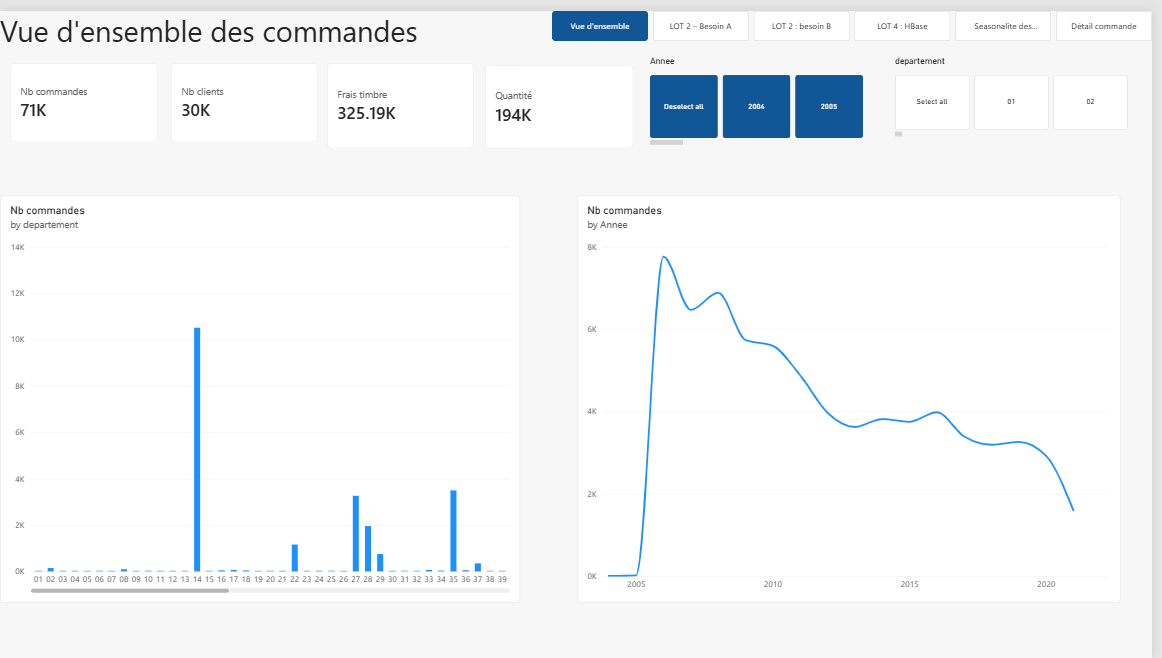

The page's visual inventory and layout, read from the dashboard file:
{"tool":"powerbi","page":{"name":"Vue d'ensemble","canvas":[1920,1080],"ordinal":0},"visuals":[{"type":"cardVisual","fields":{"Data":["lignes.Nb commandes"]},"box":[16.5,86.2,246.6,132.8],"z":0},{"type":"cardVisual","fields":{"Data":["lignes.Nb clients"]},"box":[284.2,86.2,245.1,132.8],"z":1000},{"type":"cardVisual","fields":{"Data":["lignes.Quantité"]},"box":[808.7,89.9,247,139.2],"z":2000},{"type":"cardVisual","fields":{"Data":["lignes.Frais timbre"]},"box":[544.6,86.2,245.1,143],"z":3000},{"type":"lineChart","fields":{"Category":["Calendrier.Annee","Calendrier.Mois"],"Y":["lignes.Nb commandes"]},"box":[960.9,306.2,905.9,680.3],"z":4000},{"type":"advancedSlicerVisual","fields":{"Values":["Calendrier.Annee"]},"box":[1078.3,80,356.5,150.1],"z":5000},{"type":"advancedSlicerVisual","fields":{"Values":["Clients.departement "]},"box":[1490.9,75.2,390.9,136],"z":6000},{"type":"textbox","box":[0,0,789.6,86],"z":7000},{"type":"pageNavigator","box":[919.3,0,1000,50],"z":8000},{"type":"clusteredColumnChart","fields":{"Category":["Clients.departement ","Clients.ville"],"Y":["lignes.Nb commandes"]},"box":[0,306.2,867.4,680.3],"z":9000}]}

Visuals, with their boxes in screenshot pixels (x1, y1, x2, y2), scaled from the page's 1920x1080 canvas onto the 1162x658 screenshot:
cardVisual - lignes.Nb commandes: [x1=10, y1=53, x2=159, y2=133]
cardVisual - lignes.Nb clients: [x1=172, y1=53, x2=320, y2=133]
cardVisual - lignes.Quantité: [x1=489, y1=55, x2=639, y2=140]
cardVisual - lignes.Frais timbre: [x1=330, y1=53, x2=478, y2=140]
lineChart - Calendrier.Annee x Calendrier.Mois: [x1=582, y1=187, x2=1130, y2=601]
advancedSlicerVisual - Calendrier.Annee: [x1=653, y1=49, x2=868, y2=140]
advancedSlicerVisual - Clients.departement : [x1=902, y1=46, x2=1139, y2=129]
textbox: [x1=0, y1=0, x2=478, y2=52]
pageNavigator: [x1=556, y1=0, x2=1161, y2=30]
clusteredColumnChart - Clients.departement  x Clients.ville: [x1=0, y1=187, x2=525, y2=601]
